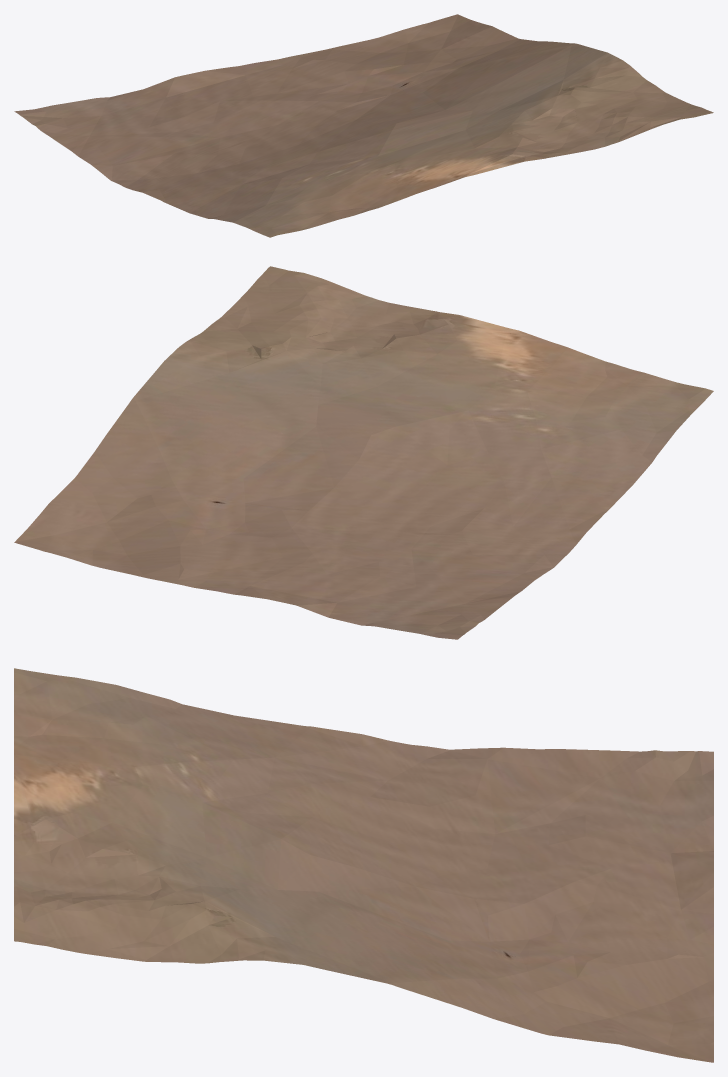
3 views of the same model, one above another, from view 1: azimuth 30°, elevation 25°; view 2: azimuth 150°, elevation 25°; view 3: azimuth 270°, elevation 25° (orthographic). The views are drawn at different scales.
Size of the model in its own units: 1.04 by 0.2127 by 1.04.
3 materials, 3 textured.
